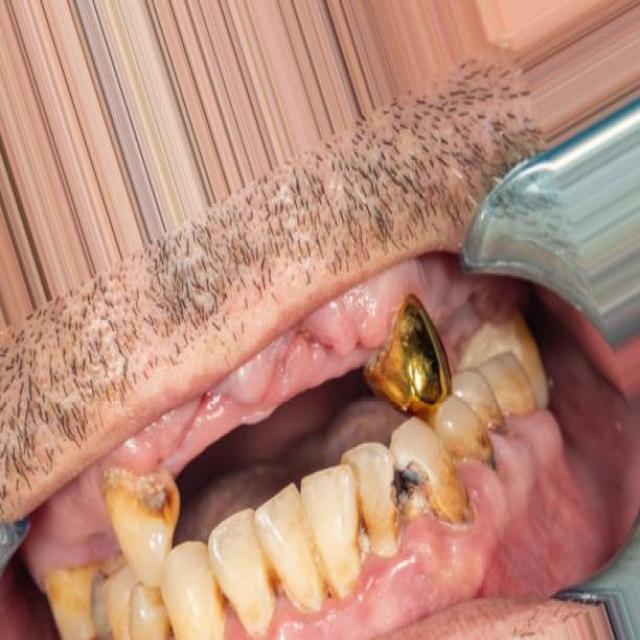caries: (382, 462, 450, 546), (97, 471, 182, 529), (476, 395, 518, 446), (472, 428, 508, 483)
